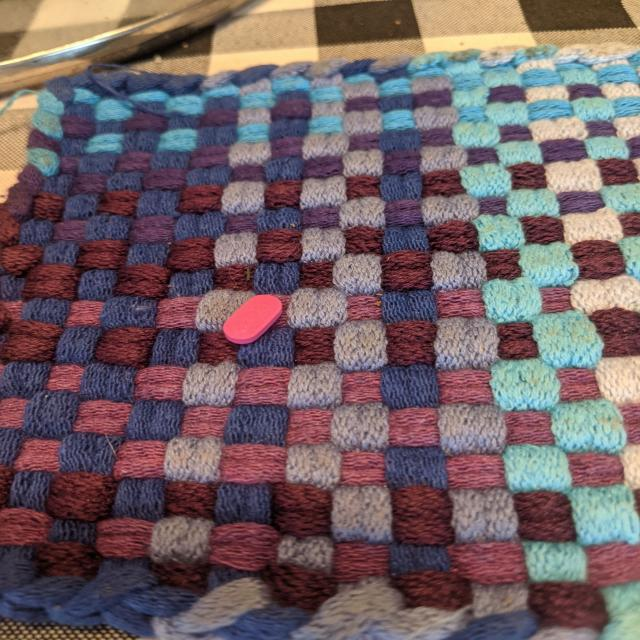non-organic waste: (222, 294, 283, 344)
